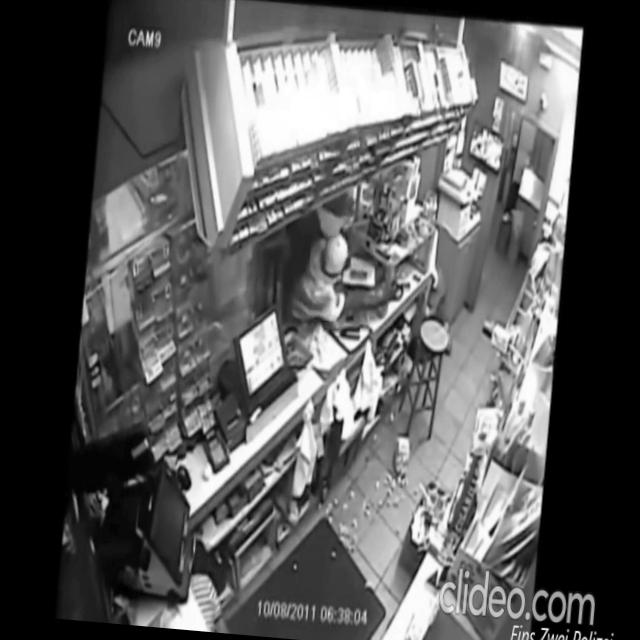gun: (385, 276, 408, 296)
person: (244, 182, 358, 350), (274, 228, 404, 352)
person with a gun: (273, 224, 414, 350)
